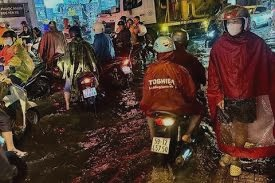Bien-so: (151, 136, 172, 154), (82, 94, 97, 107), (118, 71, 129, 80)
